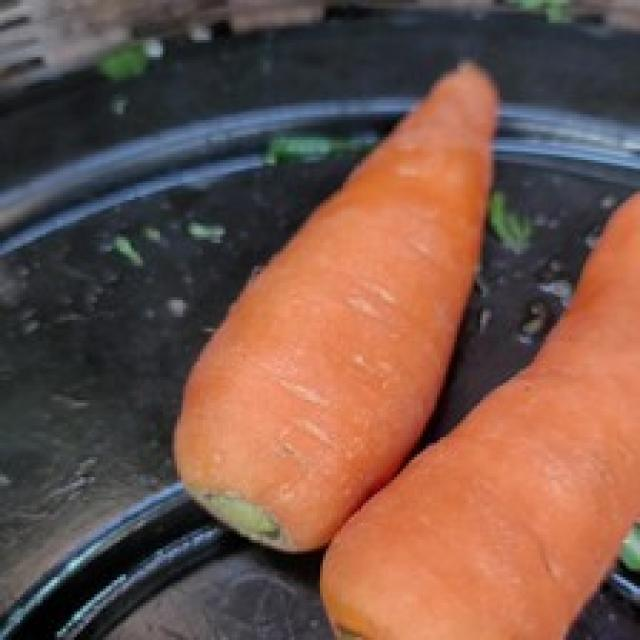carrot: (180, 57, 496, 551)
